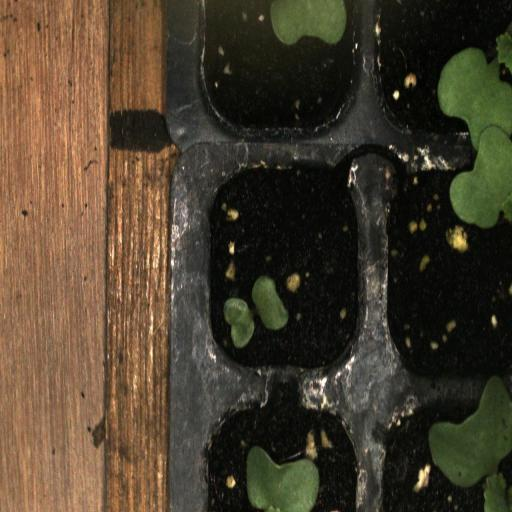Folha: (437, 32, 512, 229), (247, 446, 320, 512), (224, 276, 288, 348)
Germinacao: (189, 156, 376, 380)
